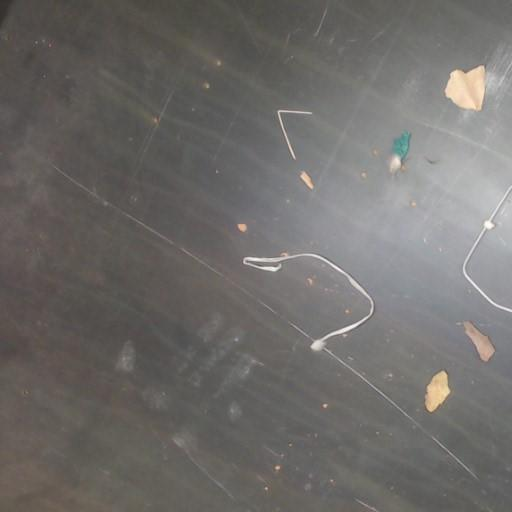conveyor belt: (0, 0, 511, 511)
thread: (244, 253, 374, 351), (462, 185, 511, 313), (277, 110, 312, 159)
